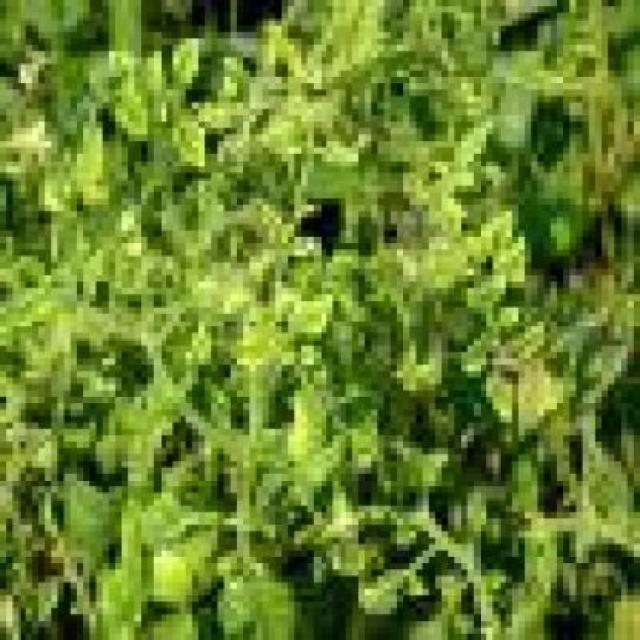Healthy Leaf: (109, 486, 231, 569), (506, 531, 577, 634), (89, 531, 148, 634), (224, 307, 302, 378), (320, 249, 397, 320), (116, 403, 166, 506), (288, 429, 352, 506), (71, 109, 109, 217), (352, 557, 416, 620), (282, 282, 340, 346), (109, 70, 154, 148), (486, 237, 531, 314), (174, 109, 218, 186), (52, 210, 91, 288), (288, 384, 326, 462), (448, 116, 500, 166), (474, 371, 518, 429), (166, 26, 205, 89), (255, 115, 314, 154), (334, 26, 378, 77), (320, 135, 365, 180), (480, 212, 518, 251), (295, 59, 328, 103)
